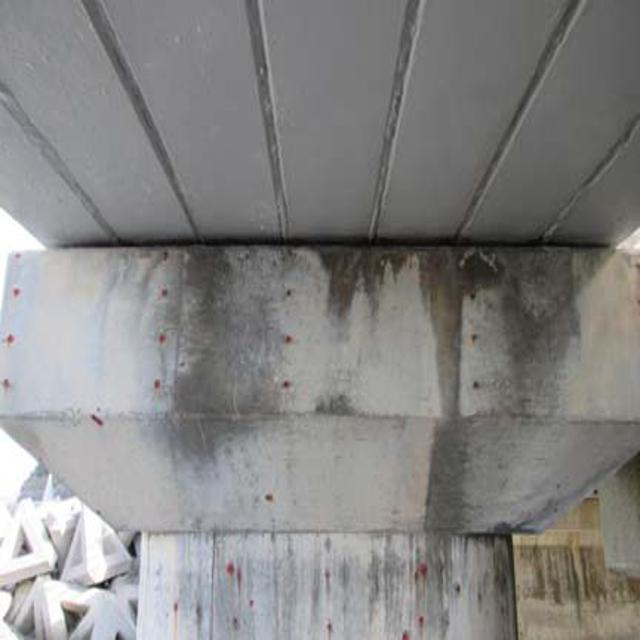leakage: (186, 220, 567, 466)
